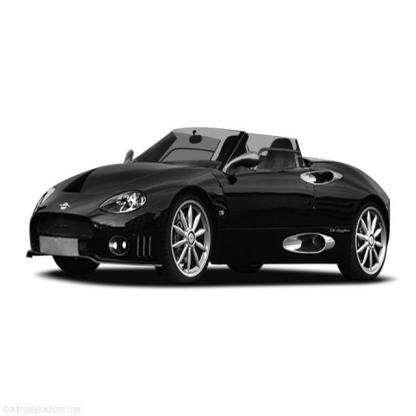Vehicle: (21, 122, 394, 289)
